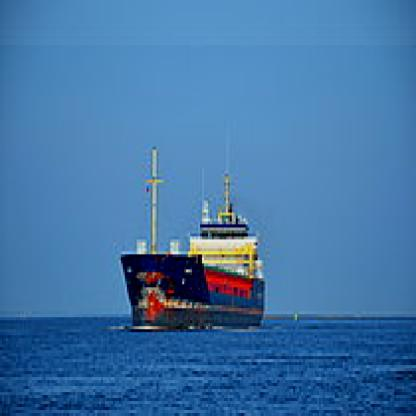Tanker: (111, 141, 271, 338)
